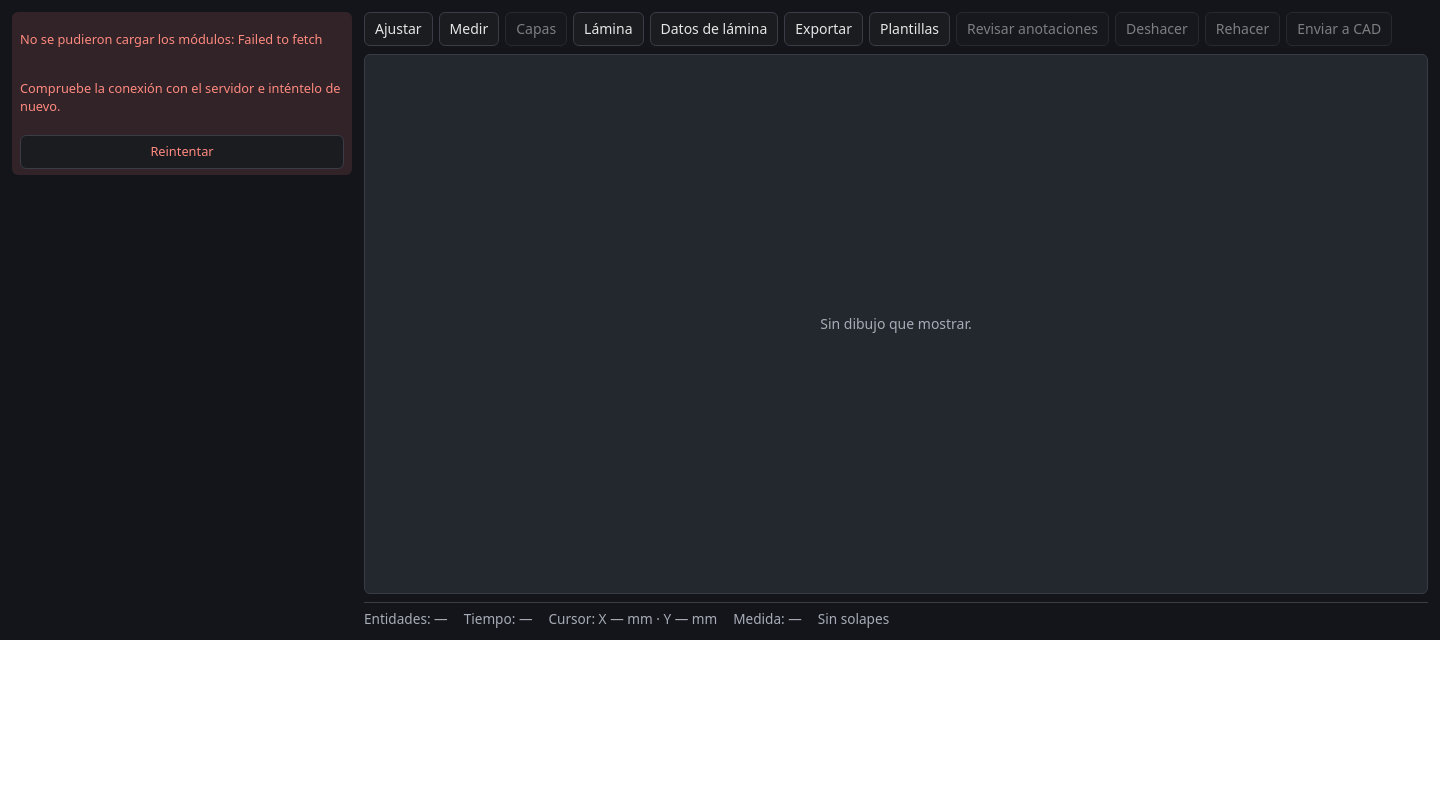
Scenario: CadDrwrPage › muestra un error con reintento si no se pueden cargar los módulos
Expected: the message shows "No se pudieron cargar los módulos: Failed to fetch", [12, 12, 352, 175]
Click the button "Reintentar" at (182, 152), box [20, 135, 344, 169]
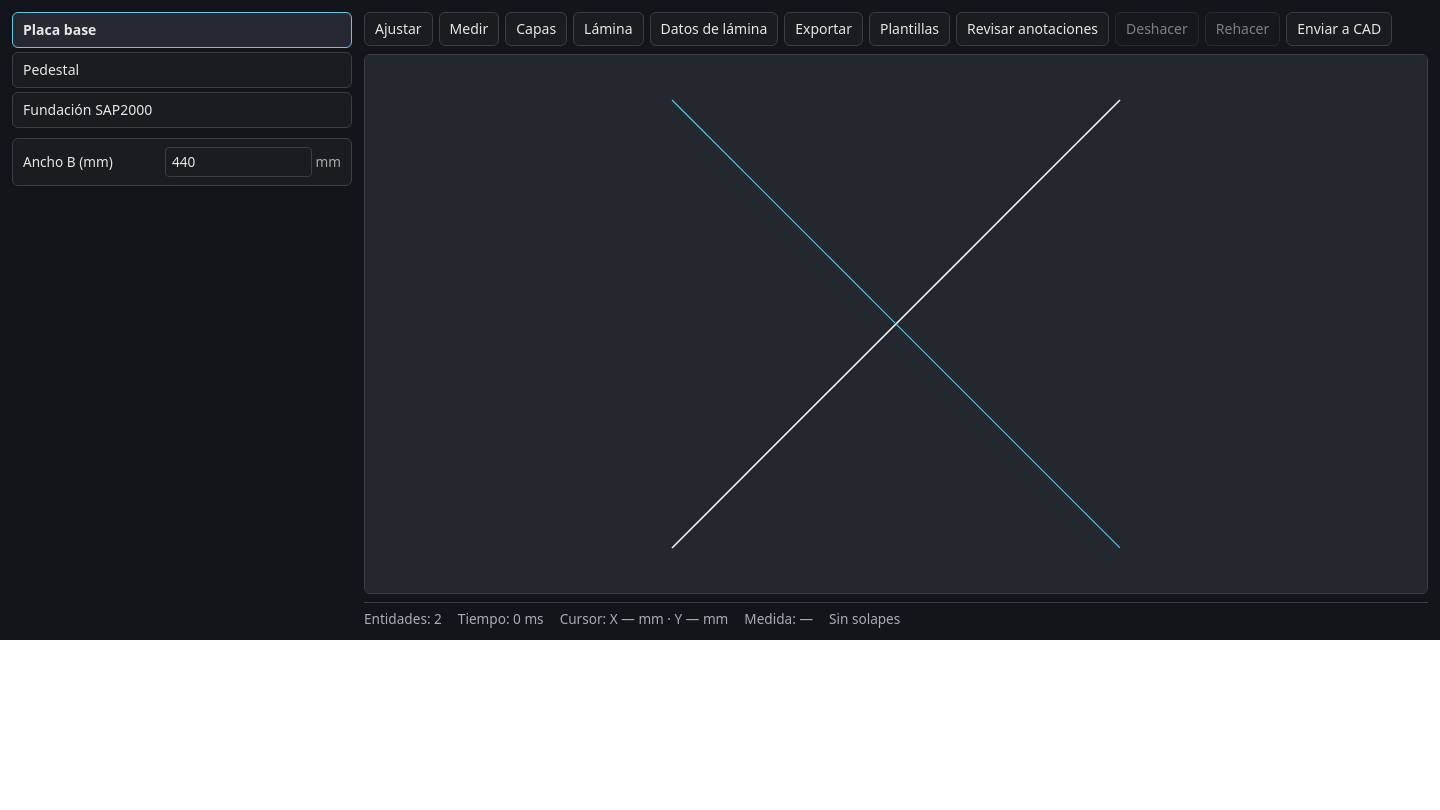
Expected: the button "Pedestal" is shown, [12, 52, 352, 88]
